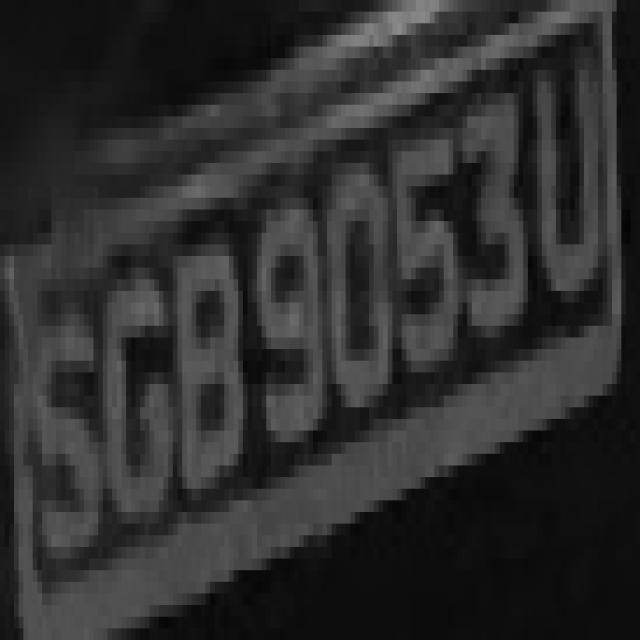0: (318, 174, 392, 466)
3: (444, 58, 523, 384)
5: (374, 116, 453, 408)
9: (248, 210, 327, 536)
B: (154, 221, 243, 535)
G: (93, 279, 173, 547)
S: (9, 303, 108, 570)
U: (518, 70, 622, 349)
